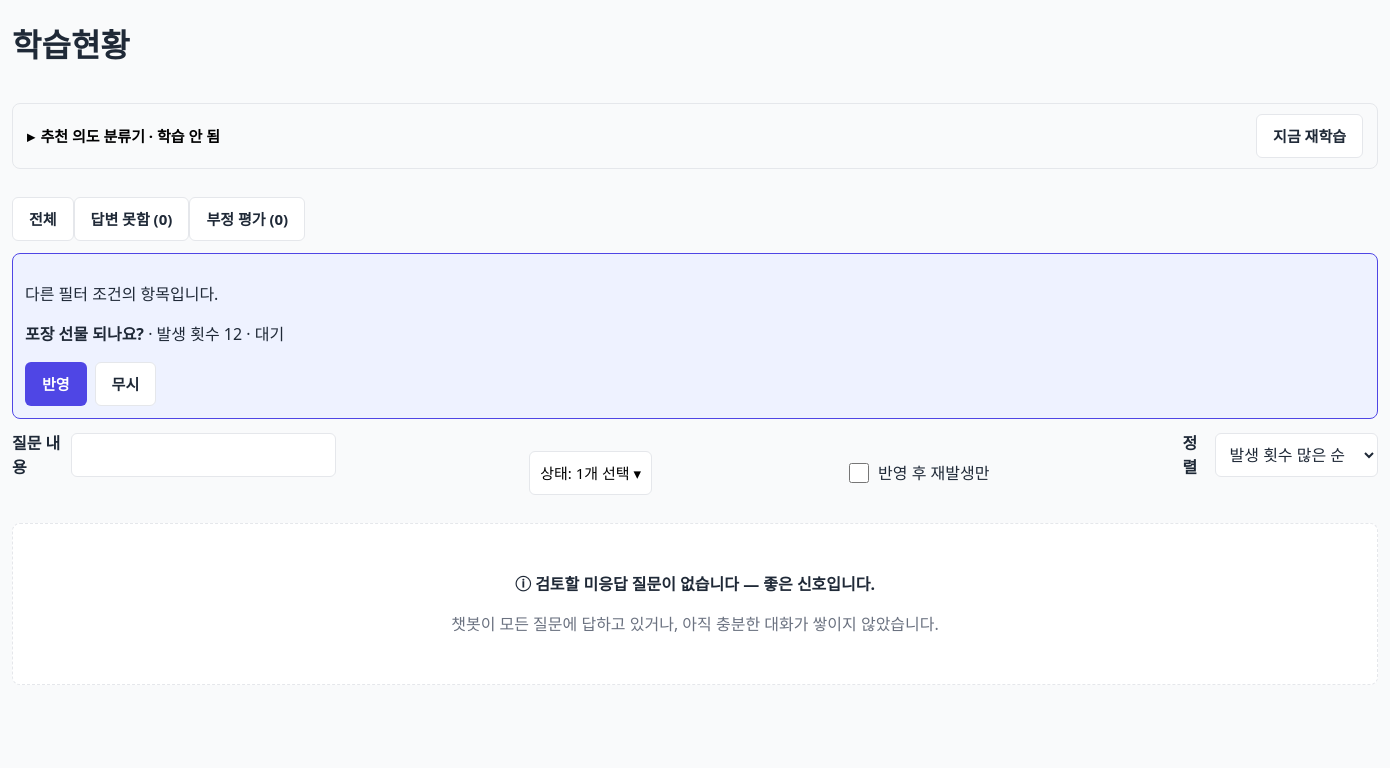
Test: LearningQueuePage — highlightId 하이라이트 카드(M-1) › 하이라이트 카드에서 무시를 누르면 카드 상세가 재조회되어 상태가 갱신된다(refreshHighlightIfMatch)
Expected: the text "다른 필터 조건의 항목입니다." is shown, [25,283,218,305]
Click the button "무시": (125, 384) [95,362,156,406]
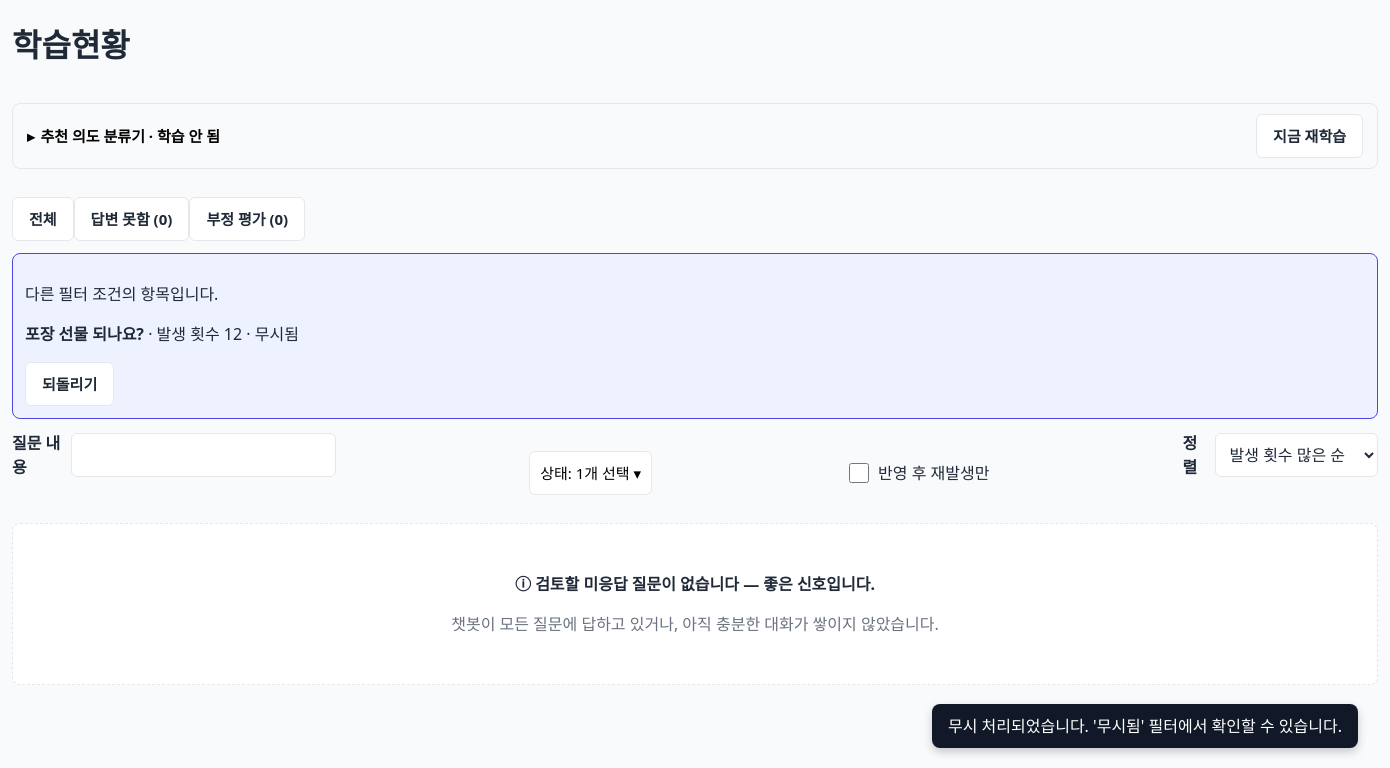
Expected: the button "되돌리기" is shown, [25,362,114,406]
